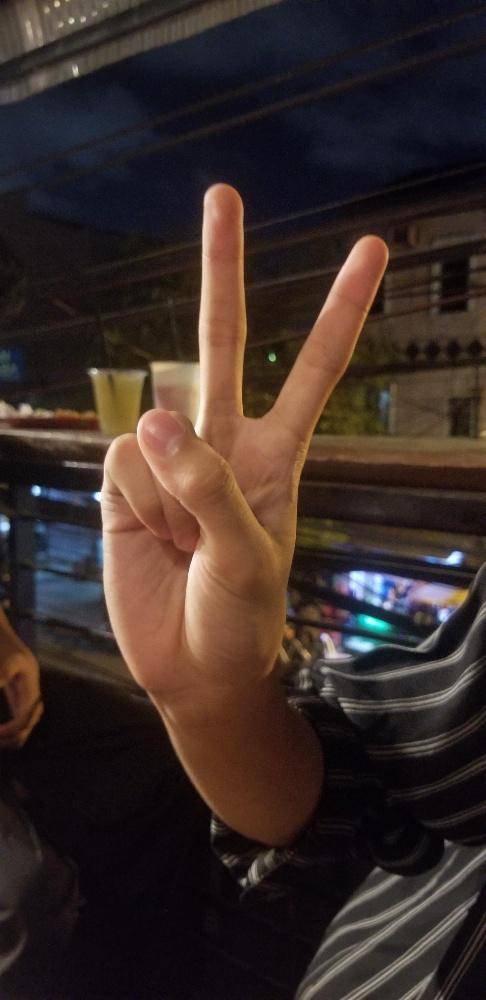v: (96, 179, 391, 712)
